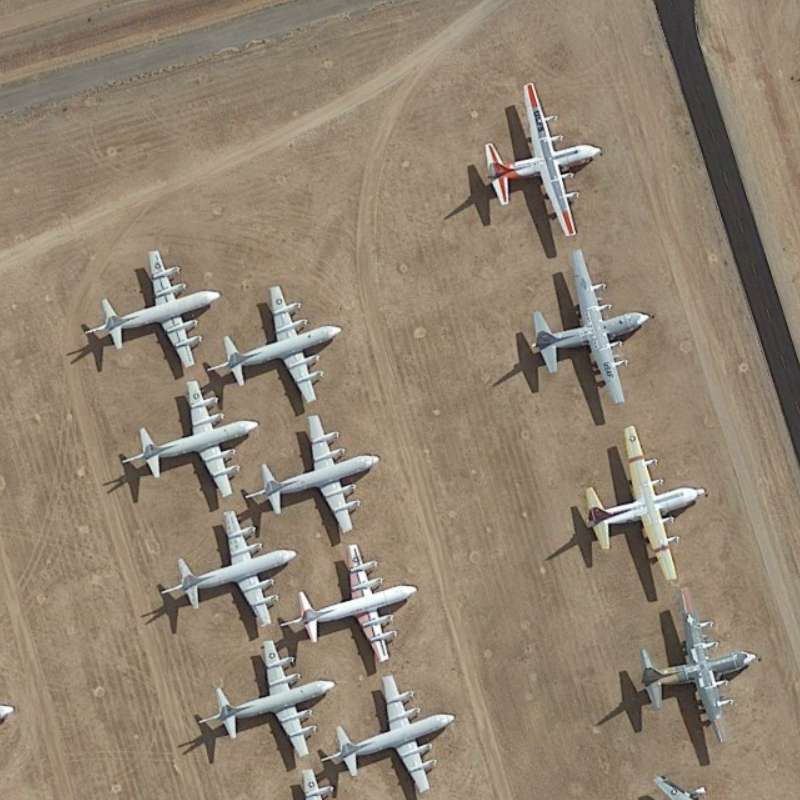A2: (526, 235, 659, 408), (581, 412, 711, 587), (476, 79, 607, 241), (643, 585, 767, 751)
A9: (203, 280, 351, 410), (189, 635, 342, 760), (78, 239, 220, 373), (114, 378, 268, 501), (281, 539, 424, 670), (317, 668, 457, 800), (155, 508, 300, 635), (245, 410, 384, 539)
